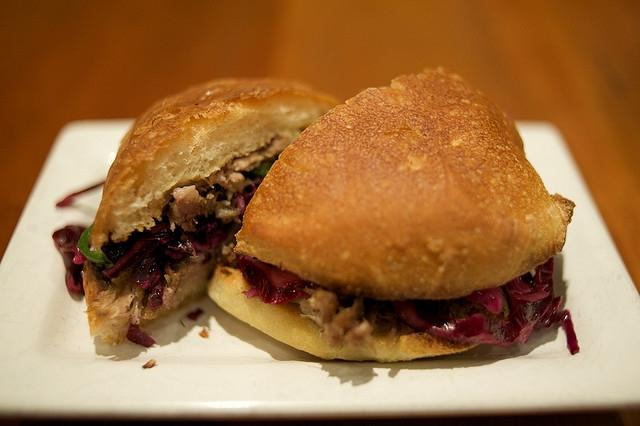bell pepper: (78, 220, 113, 265)
